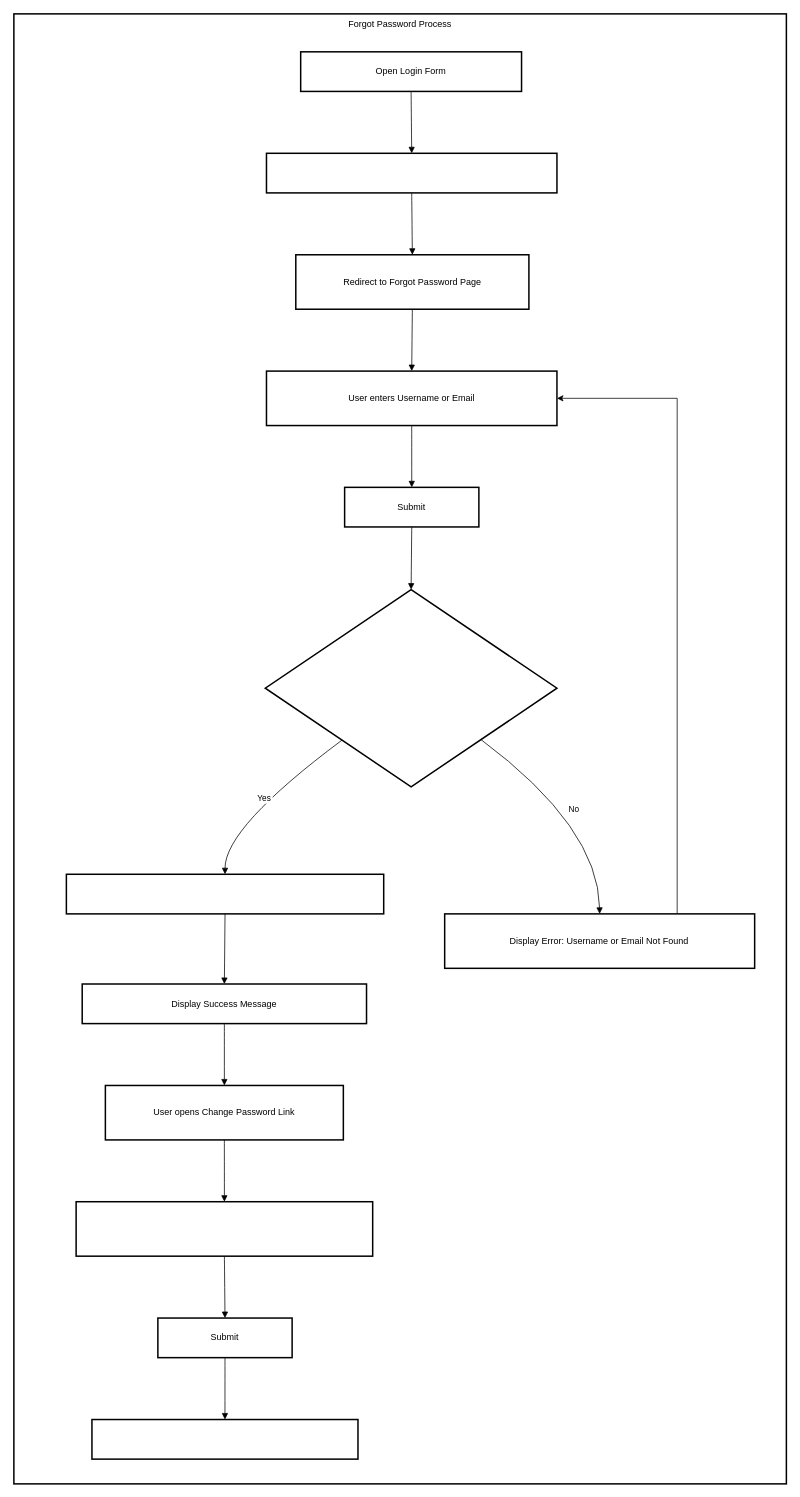
The diagram is 800 pixels wide and 1497 high, and some of its shapes have lost their labels. Here are the shapes that lost their labels. From the top down, the centre of each, then its label:
(x=411, y=172): Click on Forgot Password
(x=410, y=688): Does Username or Email Exist?
(x=224, y=893): Send Forgot Password Email
(x=224, y=1229): User enters Password and Confirm Password
(x=224, y=1439): Update User Password
